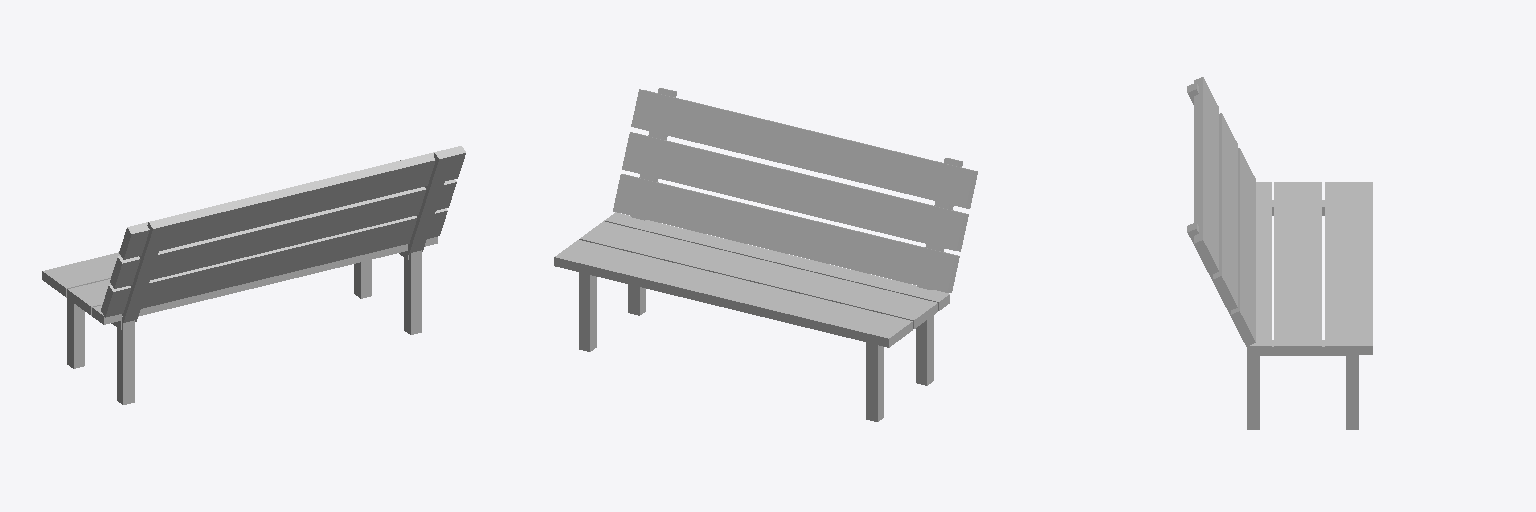
Rendered from bancoEdit.obj.
The picture shows the model from 3 angles: view 1: azimuth 30°, elevation 25°; view 2: azimuth 150°, elevation 25°; view 3: azimuth 270°, elevation 25°; orthographic projection.
Visible parts, largest first — view 1: Box001; view 2: Box001; view 3: Box001.
Part boxes in pixels (left/top/right/bottom): Box001: left=42, top=146, right=465, bottom=404; Box001: left=554, top=88, right=977, bottom=421; Box001: left=1187, top=77, right=1372, bottom=429.
Size of the model in its own units: 7.41 by 4.27 by 3.55.